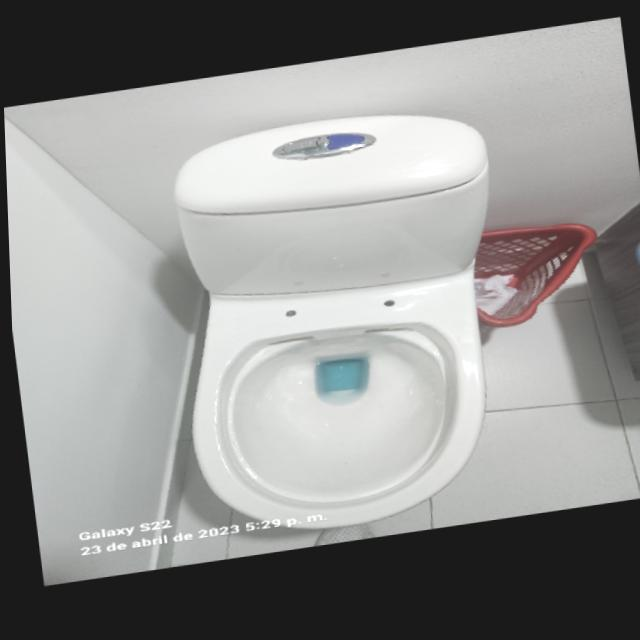toilet: (151, 99, 528, 551)
